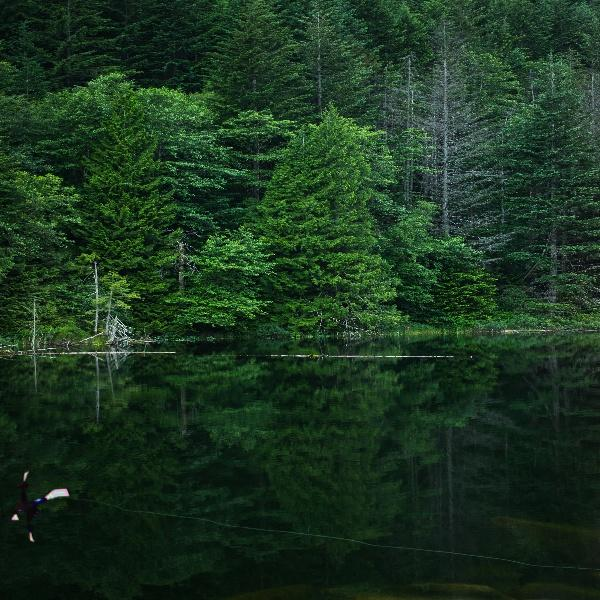drone: (2, 470, 80, 548)
